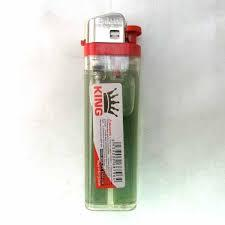lighter: (84, 12, 141, 214)
